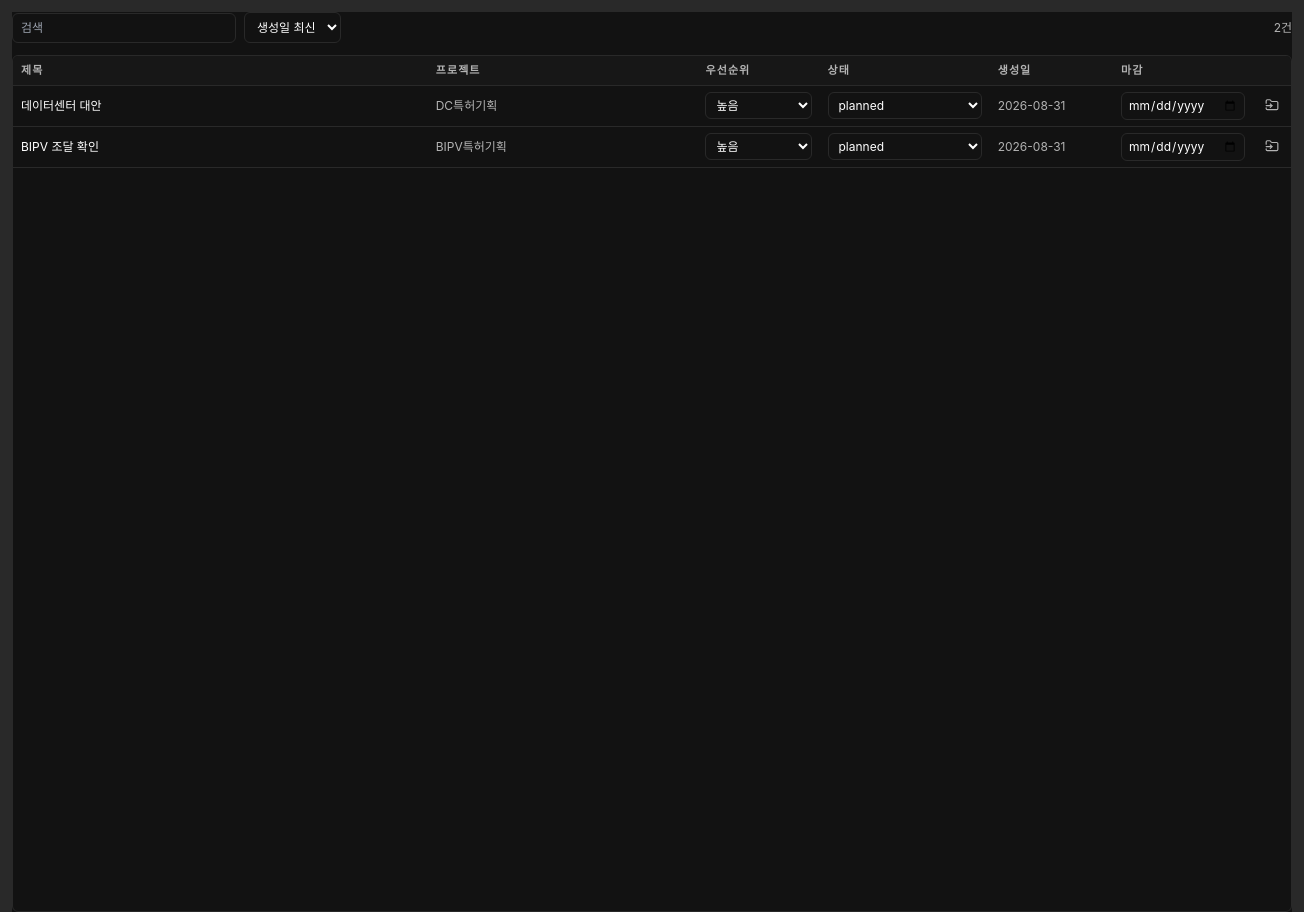
Scenario: TodoView › 검색어로 행을 거른다
Type "BIPV" into the field with placeholder "검색" at {"x": 124, "y": 28}, box top-left (12, 12), bottom-right (236, 42)
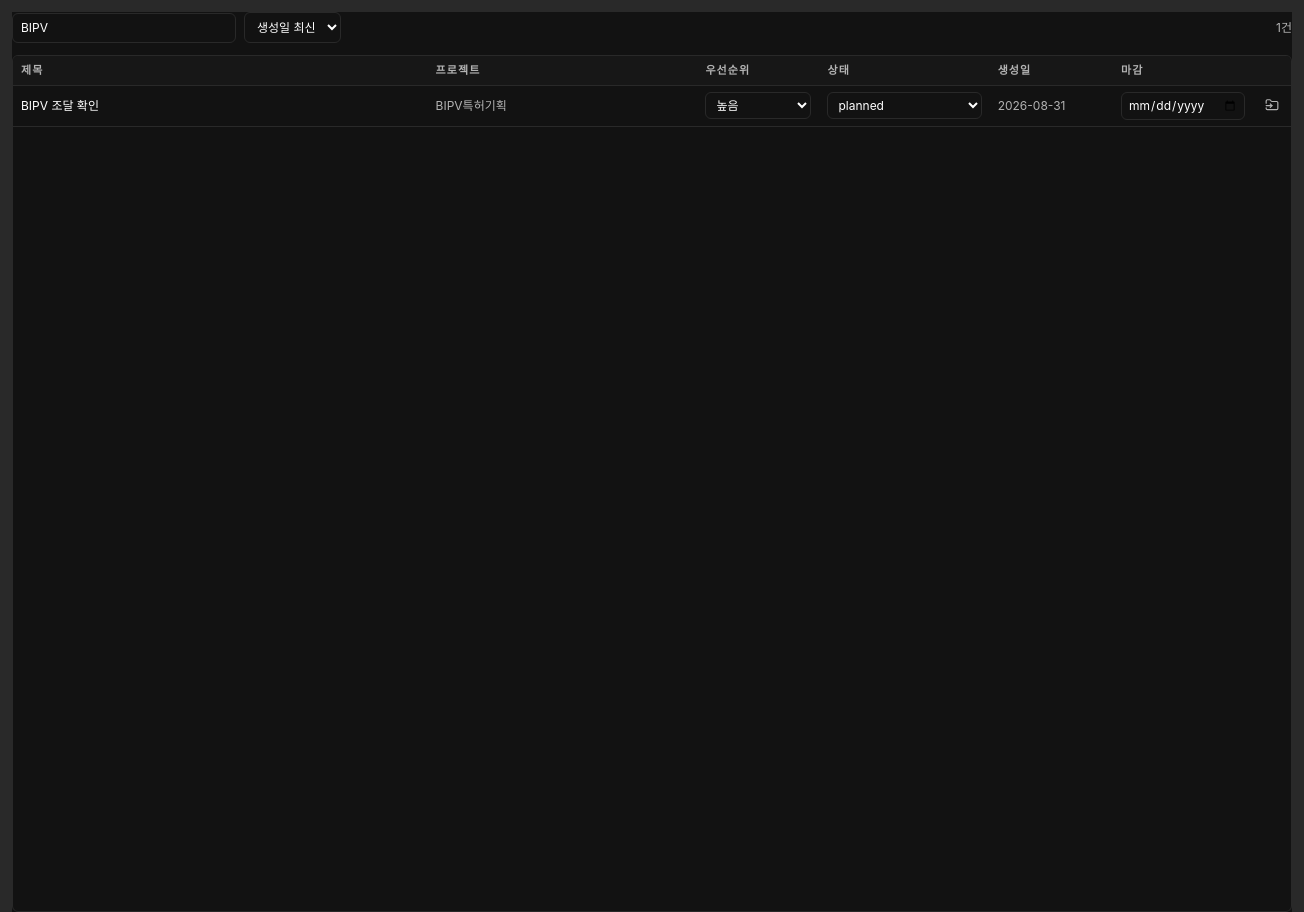
Check: the button "BIPV 조달 확인" is shown, box top-left (21, 98), bottom-right (99, 114)
Check: the button "데이터센터 대안" is gone
